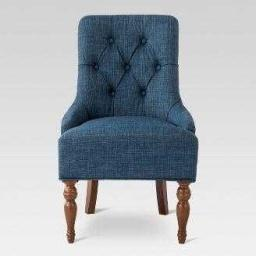Chair: (60, 12, 199, 247)
